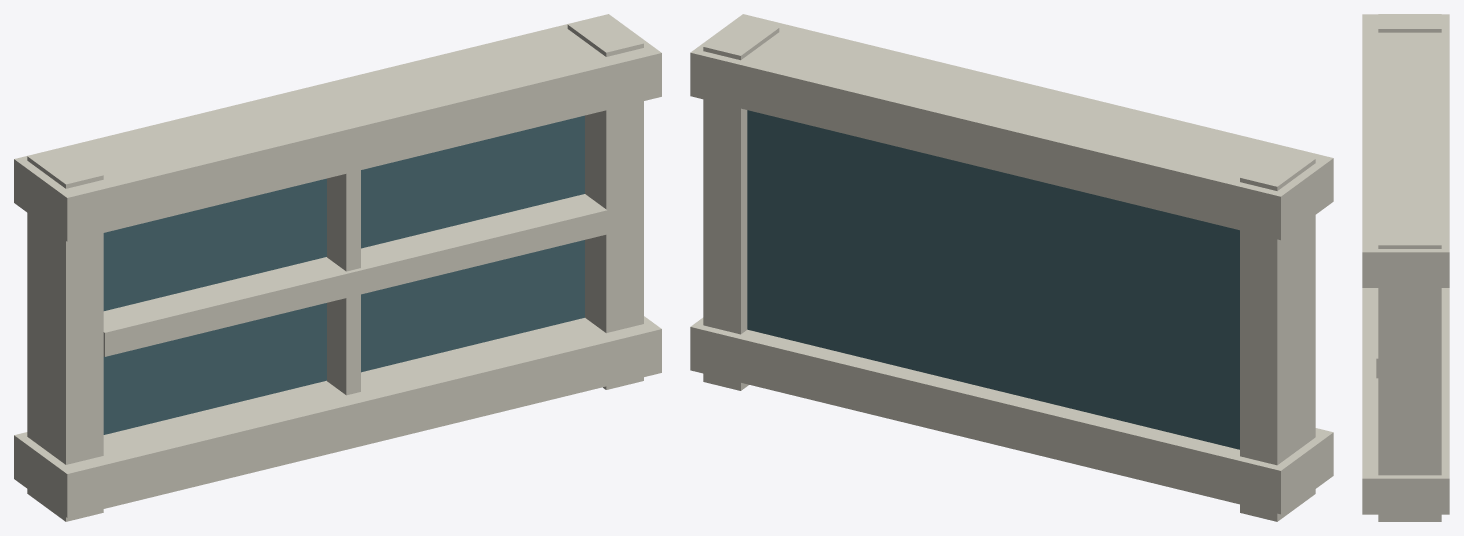
3 renders of one model, left to right at view 1: azimuth 30°, elevation 25°; view 2: azimuth 150°, elevation 25°; view 3: azimuth 270°, elevation 25°, orthographic. The views are drawn at different scales.
Visible parts, largest first — view 1: QH-A0039_V01_geometry; view 2: QH-A0039_V01_geometry; view 3: QH-A0039_V01_geometry.
Boxes of the visible parts, x1,y1,x2,y2 form: QH-A0039_V01_geometry: (14, 14, 661, 521); QH-A0039_V01_geometry: (690, 14, 1333, 521); QH-A0039_V01_geometry: (1362, 14, 1449, 521).
Size of the model in its own units: 1.42 by 0.77 by 0.22.
